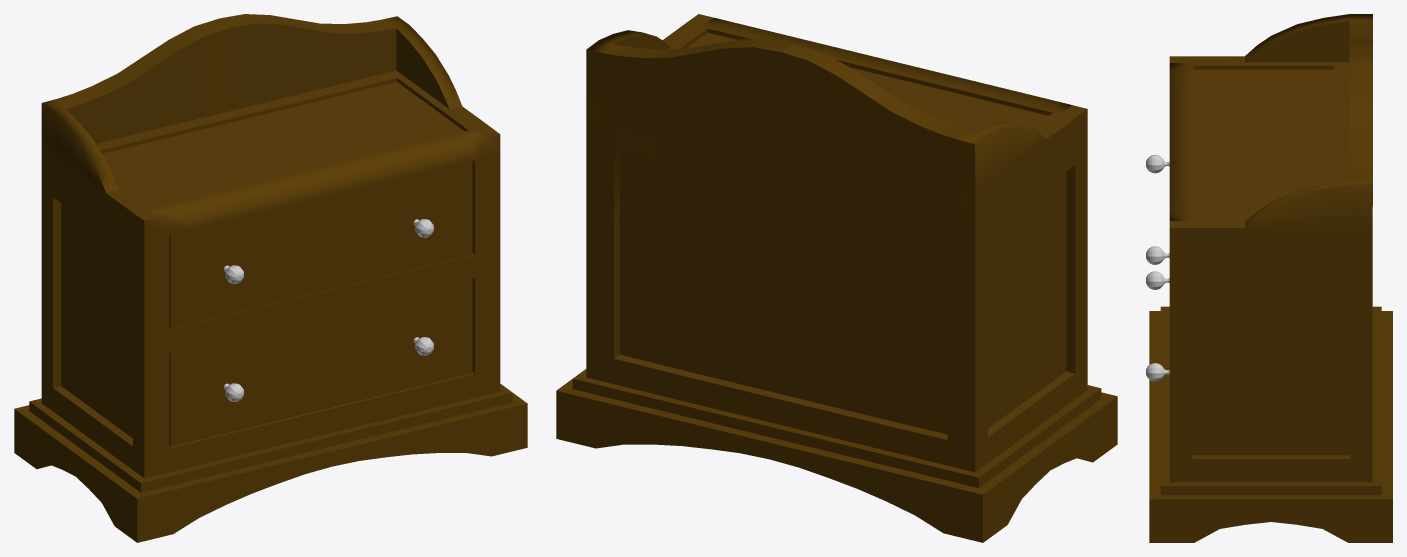
File: Chest_With_Drawers_low.fbx
3 renders of one model, left to right at view 1: azimuth 30°, elevation 25°; view 2: azimuth 150°, elevation 25°; view 3: azimuth 270°, elevation 25°, orthographic. The views are drawn at different scales.
Visible parts, largest first — view 1: Chest_of_draws_low; view 2: Chest_of_draws_low; view 3: Chest_of_draws_low.
Boxes of the visible parts, x1,y1,x2,y2 form: Chest_of_draws_low: (14,14,527,542); Chest_of_draws_low: (556,14,1117,542); Chest_of_draws_low: (1146,14,1392,542).
Bounding box in the file's own units: 127 × 122 × 70.29.
